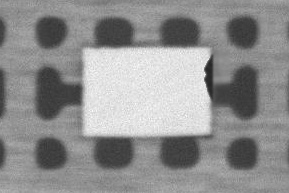DIE_BROKEN: (202, 54, 215, 100)
